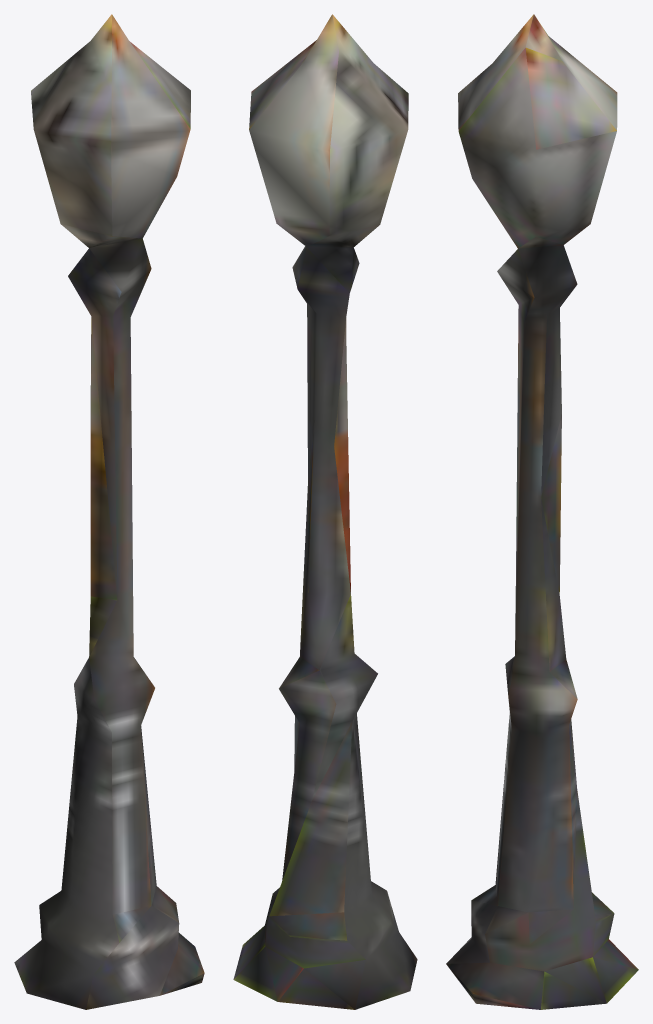
The model's file is streetlight.fbx.
The picture shows the model from 3 angles, left to right: view 1: azimuth 30°, elevation 25°; view 2: azimuth 150°, elevation 25°; view 3: azimuth 270°, elevation 25°; orthographic projection.
Visible parts, largest first — view 1: Mesh_0.008; view 2: Mesh_0.008; view 3: Mesh_0.008.
Part boxes in pixels (x1,y1,x2,y2): Mesh_0.008: (14, 14, 204, 1009); Mesh_0.008: (233, 14, 417, 1009); Mesh_0.008: (446, 14, 638, 1009).
Size of the model in its own units: 44.16 by 241 by 43.88.
